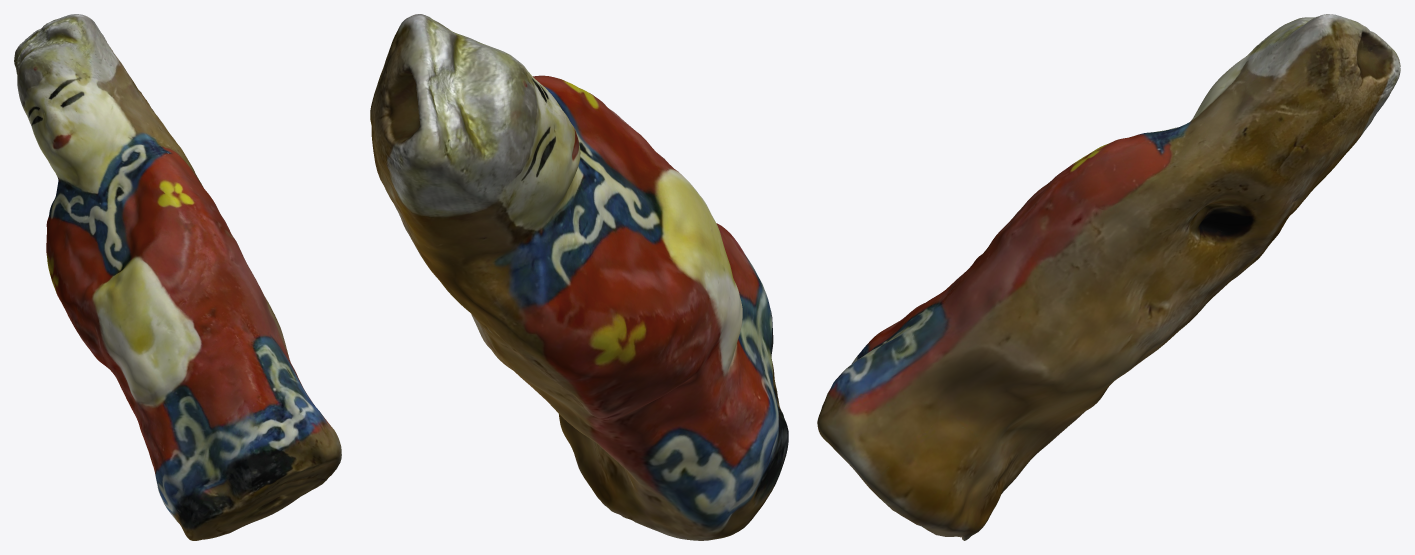
3 renders of one model, left to right at view 1: azimuth 30°, elevation 25°; view 2: azimuth 150°, elevation 25°; view 3: azimuth 270°, elevation 25°, orthographic. The views are drawn at different scales.
Bounding box in the file's own units: 0.349 × 0.8483 × 0.8704.
1 material, 1 textured.
